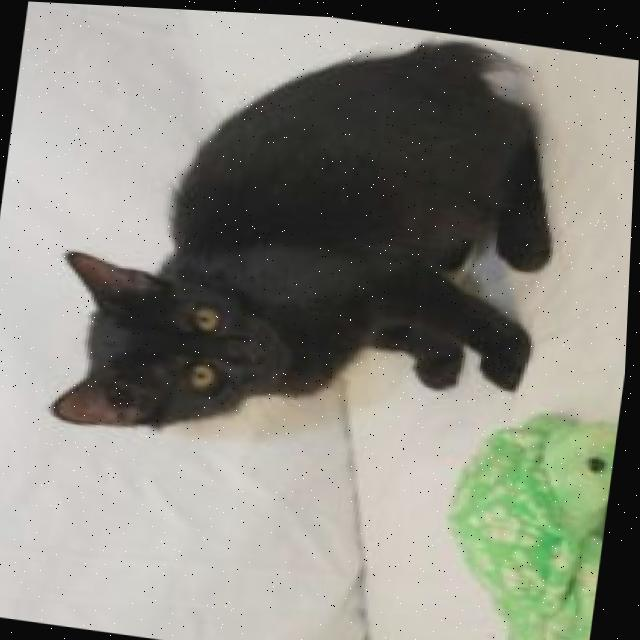American Bobtail: (37, 2, 580, 485)
